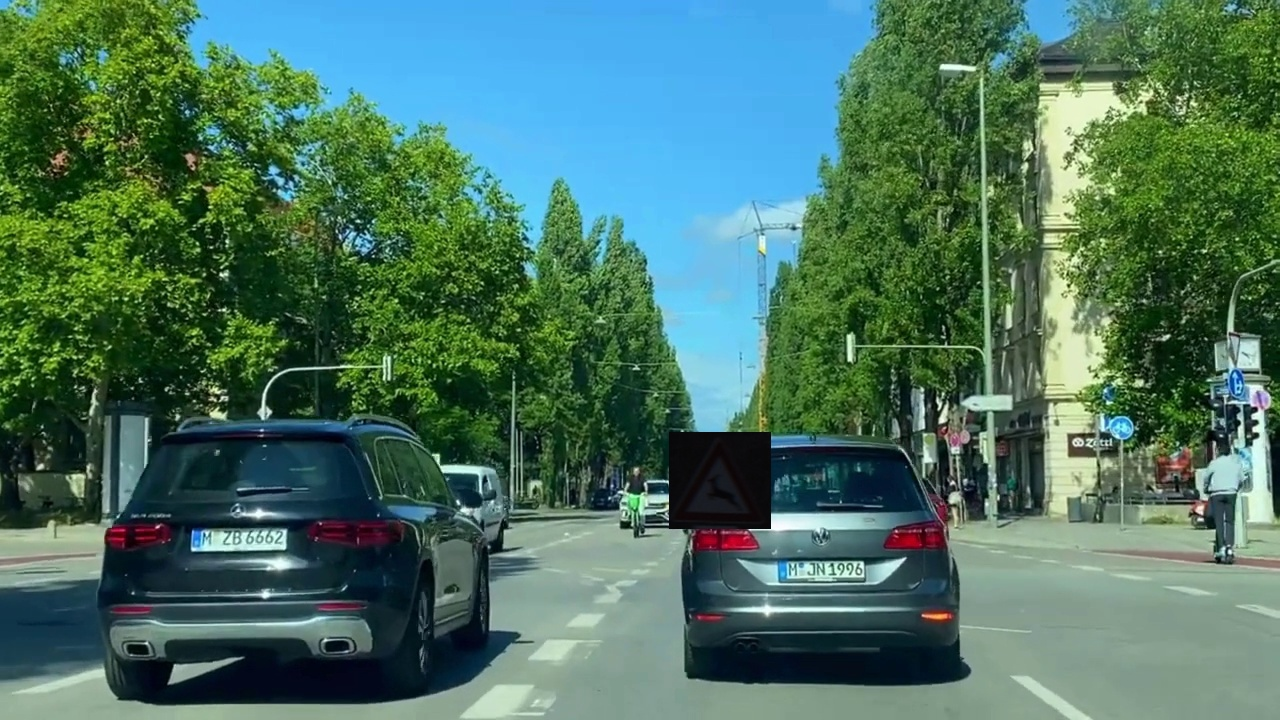Wild animals: (669, 432, 771, 529)
